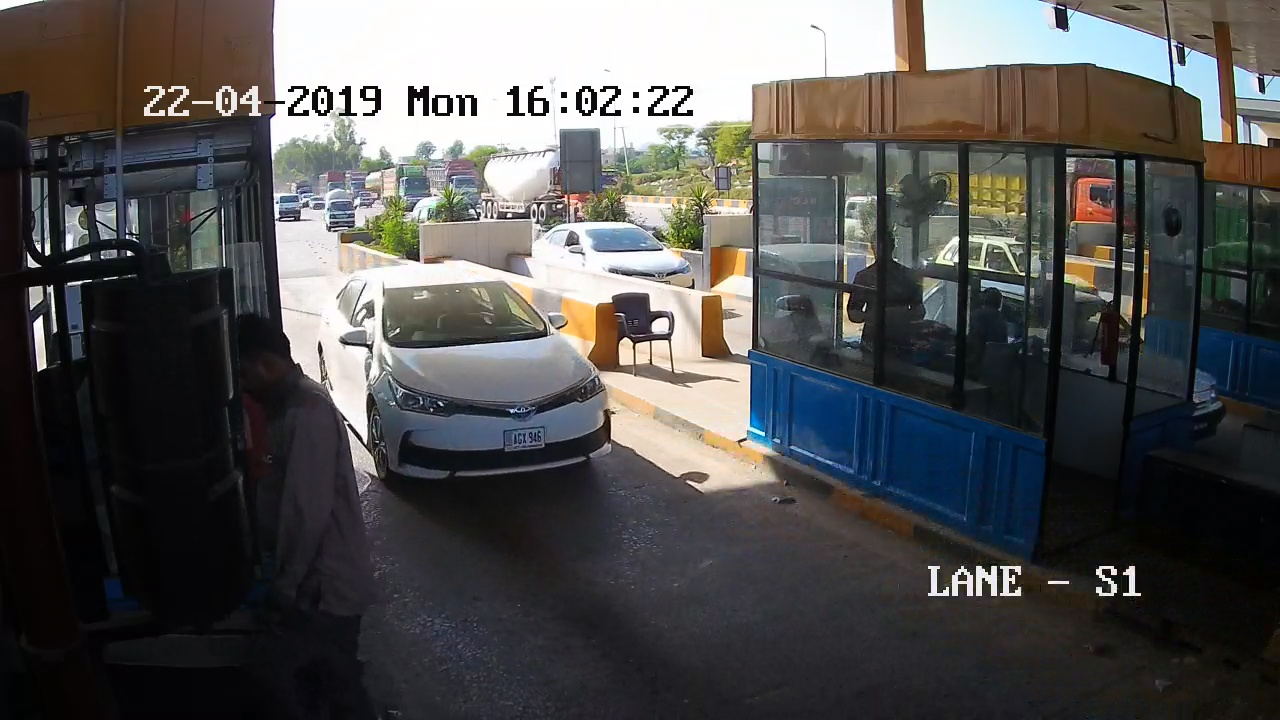car: (301, 261, 632, 502)
